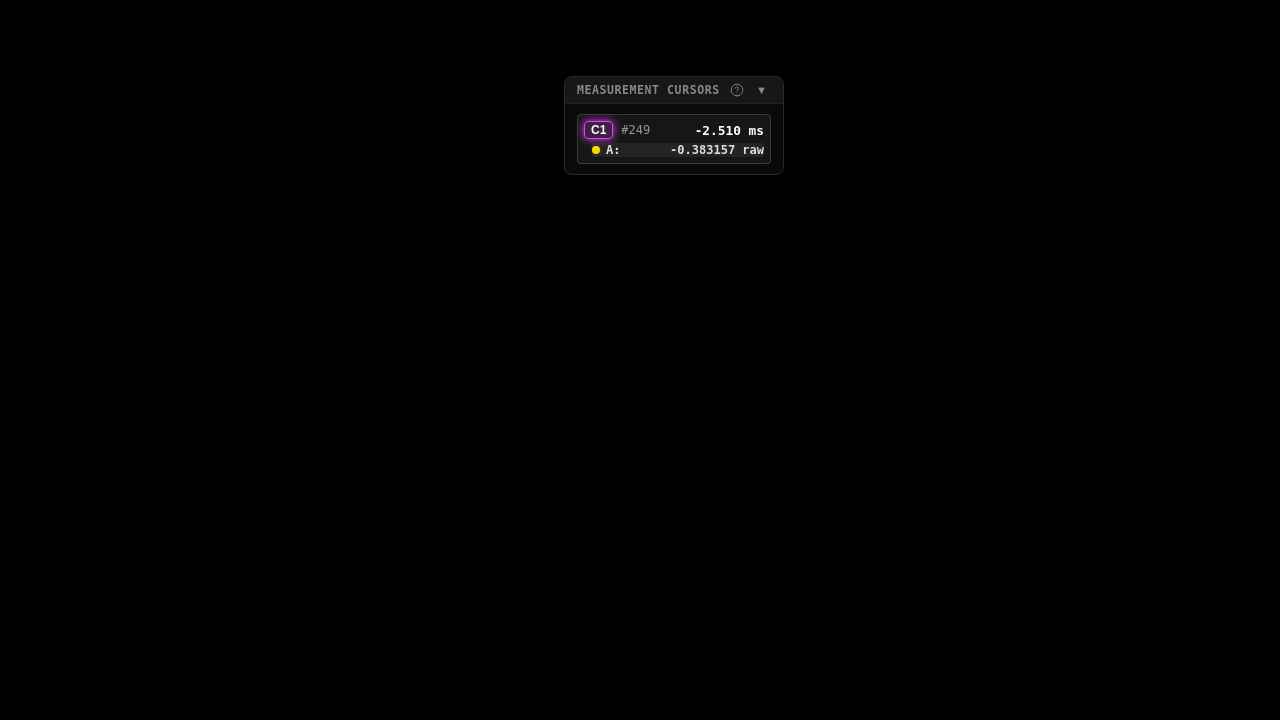
Scenario: Draggable cursor readout card (Issue #58) › AC (Issue #143): help button tooltips 'Cursor help' and toggles the floating guidance panel
This screenshot has width=1280, height=720.
Click the button with test id "cursor-readout-help-btn" at (737, 90), box [728,83,746,97]
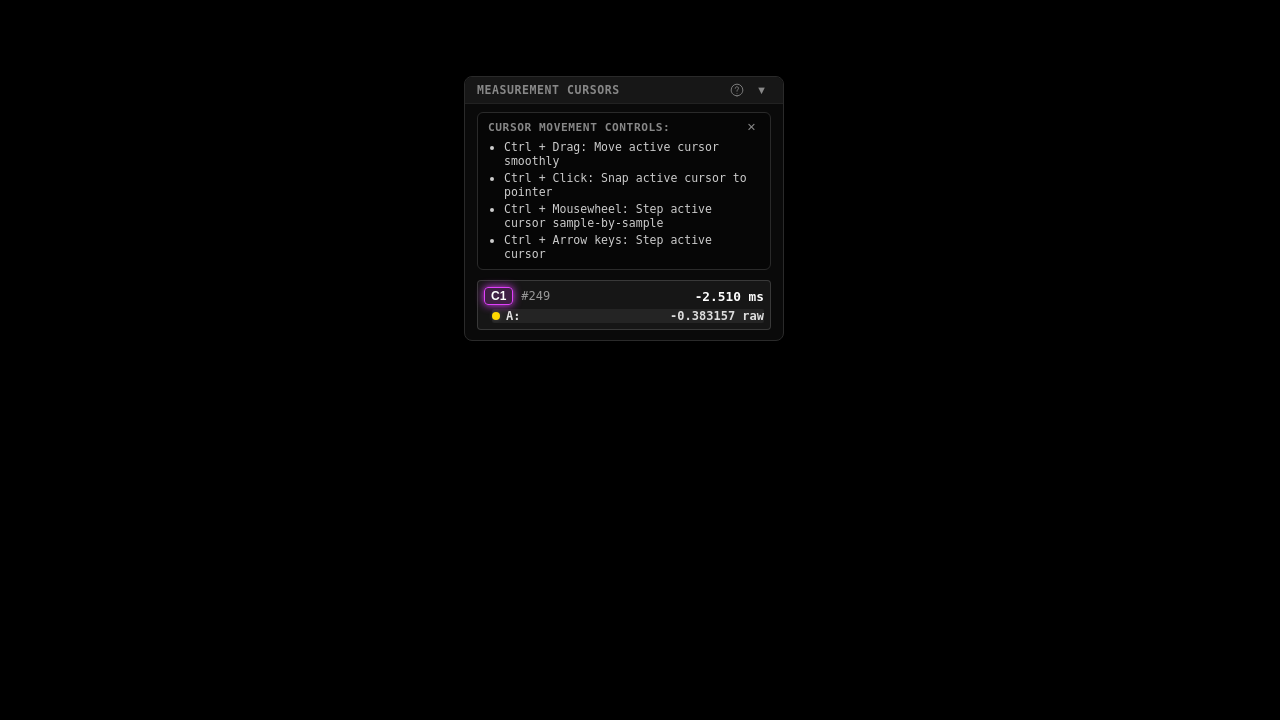
expect the dialog with test id "cursor-readout-help-panel" is shown: met, box [477,112,771,270]
expect the dialog with test id "cursor-readout-help-panel" shows "Cursor Movement Controls": met, box [488,121,670,134]
expect the dialog with test id "cursor-readout-help-panel" shows "Ctrl + Drag": met, box [504,140,719,168]
Click the button with test id "cursor-readout-help-close" at (751, 128), box [743,121,760,134]
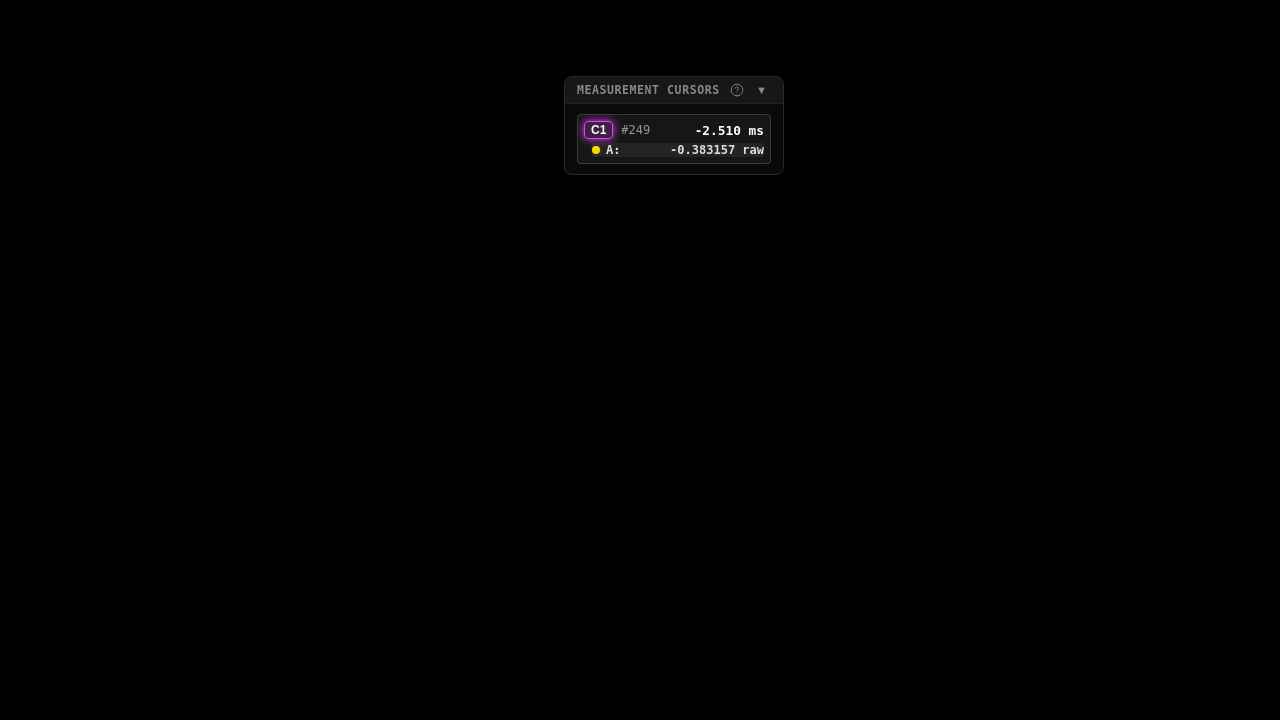
expect the dialog with test id "cursor-readout-help-panel" is gone: met
Click the button with test id "cursor-readout-help-btn" at (737, 90), box [728,83,746,97]
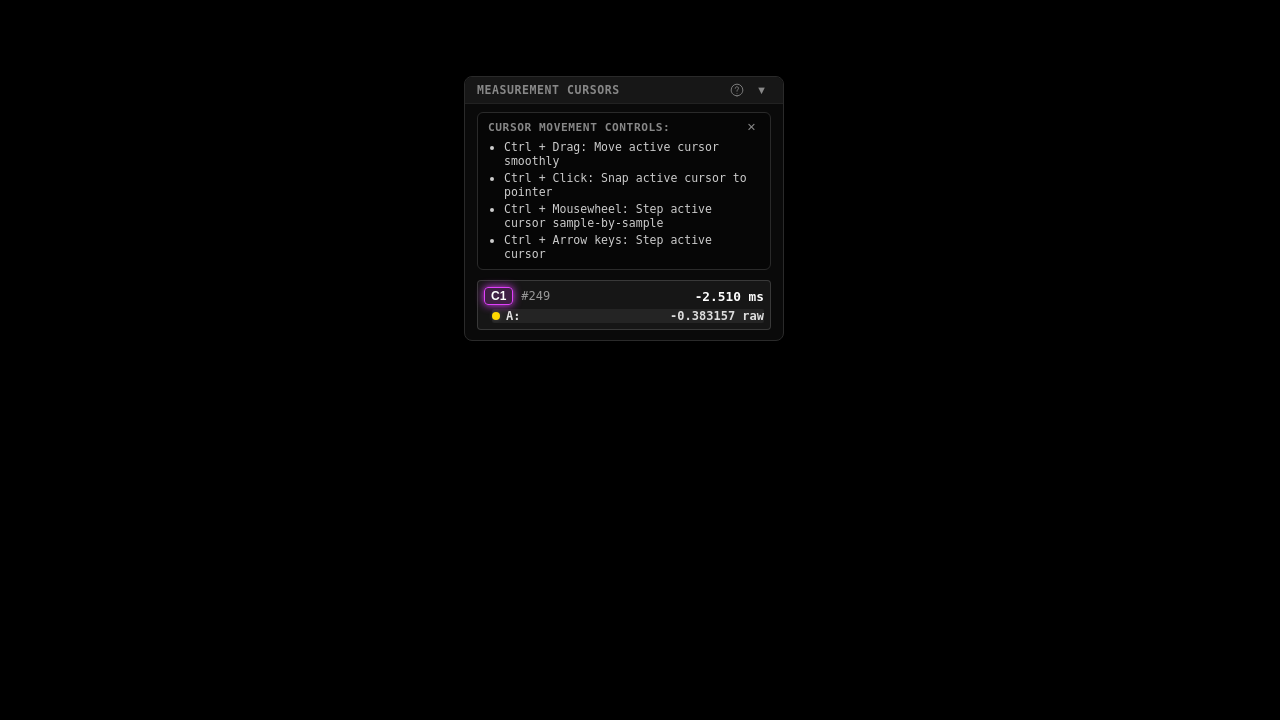
expect the dialog with test id "cursor-readout-help-panel" is shown: met, box [477,112,771,270]
